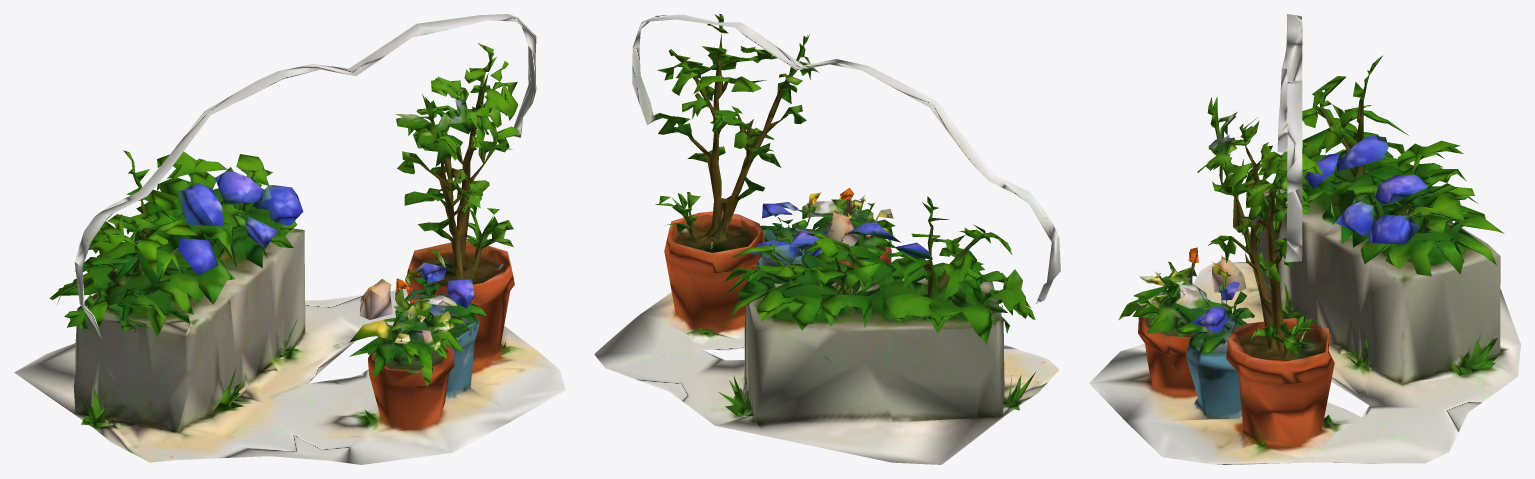
File: env_pots.glb
3 renders of one model, left to right at view 1: azimuth 30°, elevation 25°; view 2: azimuth 150°, elevation 25°; view 3: azimuth 270°, elevation 25°, orthographic. The views are drawn at different scales.
Parts seen in each view (by area): view 1: tripo_node_80390f4a-7987-4902-b541-92d8b458a5d5; view 2: tripo_node_80390f4a-7987-4902-b541-92d8b458a5d5; view 3: tripo_node_80390f4a-7987-4902-b541-92d8b458a5d5.
Boxes of the visible parts, x1,y1,x2,y2 form: tripo_node_80390f4a-7987-4902-b541-92d8b458a5d5: (14, 14, 565, 464); tripo_node_80390f4a-7987-4902-b541-92d8b458a5d5: (594, 14, 1060, 464); tripo_node_80390f4a-7987-4902-b541-92d8b458a5d5: (1089, 14, 1520, 464).
Bounding box in the file's own units: 0.9647 × 0.6844 × 0.7898.
1 material, 1 textured.
